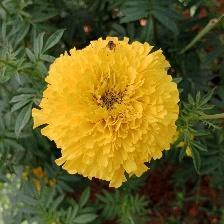marigold: (33, 36, 182, 192)
